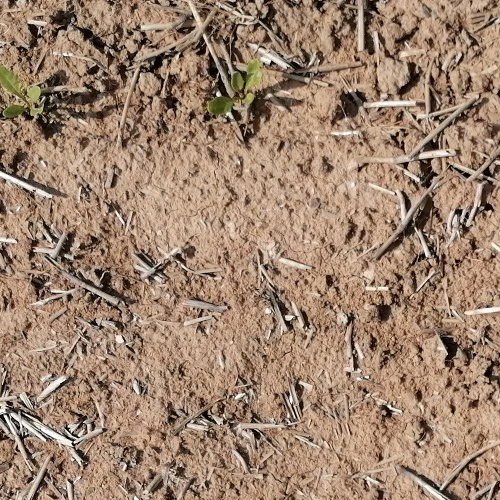beet: (206, 60, 261, 116), (0, 65, 43, 118)
